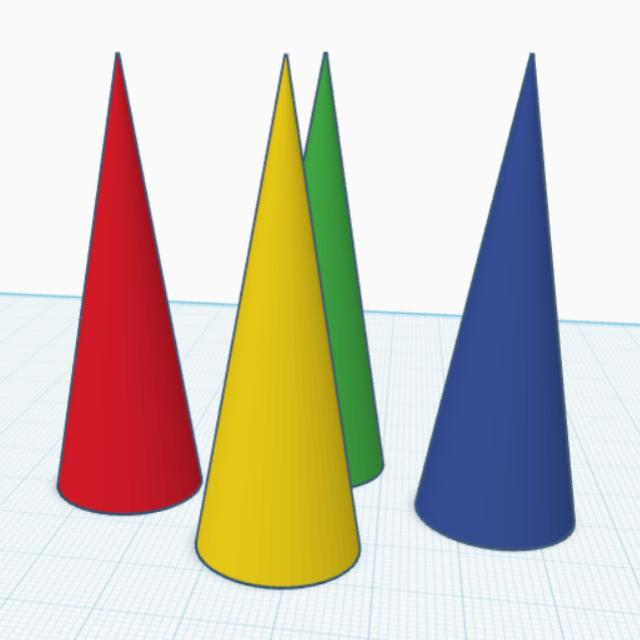cone: (190, 49, 364, 594), (409, 48, 580, 555), (54, 45, 205, 519)
